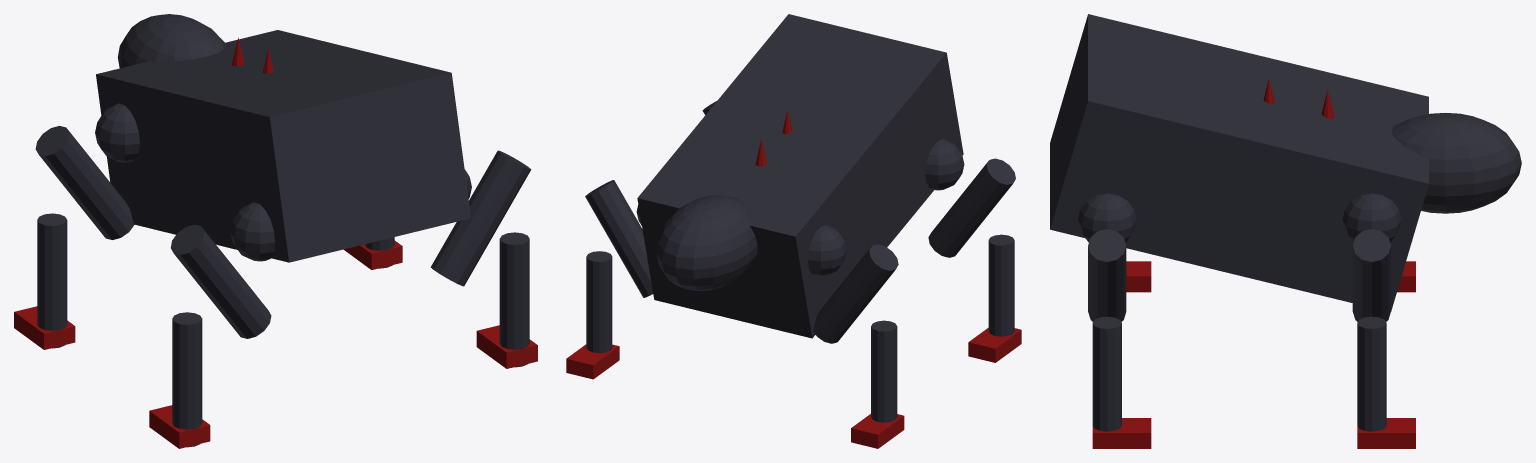
Rendered from Monster_Crawler.obj.
3 views of the same model, side by side, from view 1: azimuth 30°, elevation 25°; view 2: azimuth 150°, elevation 25°; view 3: azimuth 270°, elevation 25° (orthographic). The views are drawn at different scales.
Visible parts, largest first — view 1: Monster_Crawler; view 2: Monster_Crawler; view 3: Monster_Crawler.
Boxes of the visible parts, x1,y1,x2,y2 form: Monster_Crawler: (14, 14, 537, 448); Monster_Crawler: (566, 14, 1021, 448); Monster_Crawler: (1050, 14, 1521, 448).
Size of the model in its own units: 1.38 by 1.15 by 1.6.
